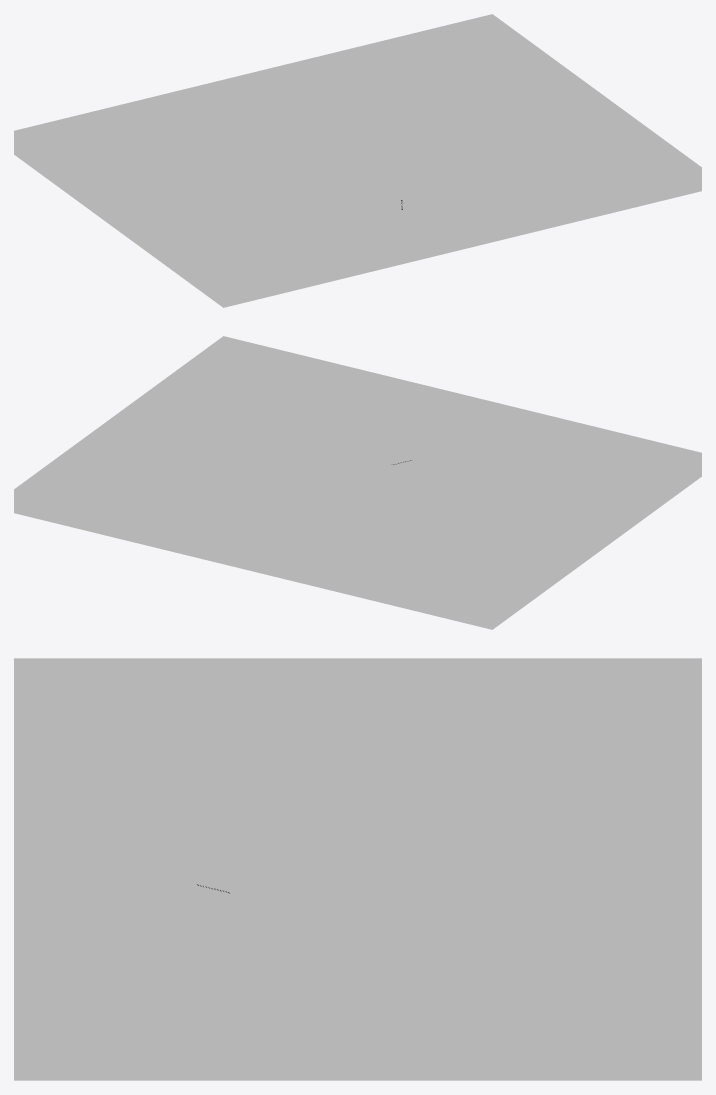
Rendered from 2022_april_open_ccw.dae.
3 views of the same model, one above another, from view 1: azimuth 30°, elevation 25°; view 2: azimuth 150°, elevation 25°; view 3: azimuth 270°, elevation 25° (orthographic). The views are drawn at different scales.
Parts seen in each view (by area): view 1: field, wall, road, il, ol, cl; view 2: field, wall, road, il, ol; view 3: field, wall, road, ol, il, cl.
Boxes of the visible parts, box(x1,y1,x2,y2) form: field: box(39, 38, 676, 283); wall: box(14, 14, 701, 307); road: box(83, 118, 631, 213); il: box(107, 128, 607, 203); ol: box(81, 118, 633, 214); cl: box(95, 123, 620, 208); field: box(39, 360, 676, 605); wall: box(14, 336, 701, 629); road: box(162, 386, 552, 600); il: box(186, 396, 529, 593); ol: box(160, 385, 554, 601); field: box(14, 697, 701, 1041); wall: box(14, 658, 701, 1080); road: box(50, 712, 665, 1041); ol: box(47, 711, 668, 1041); il: box(89, 729, 626, 1041); cl: box(69, 720, 646, 1041).
Bounding box in the file's own units: 21.06 × 15.98 × 1.
